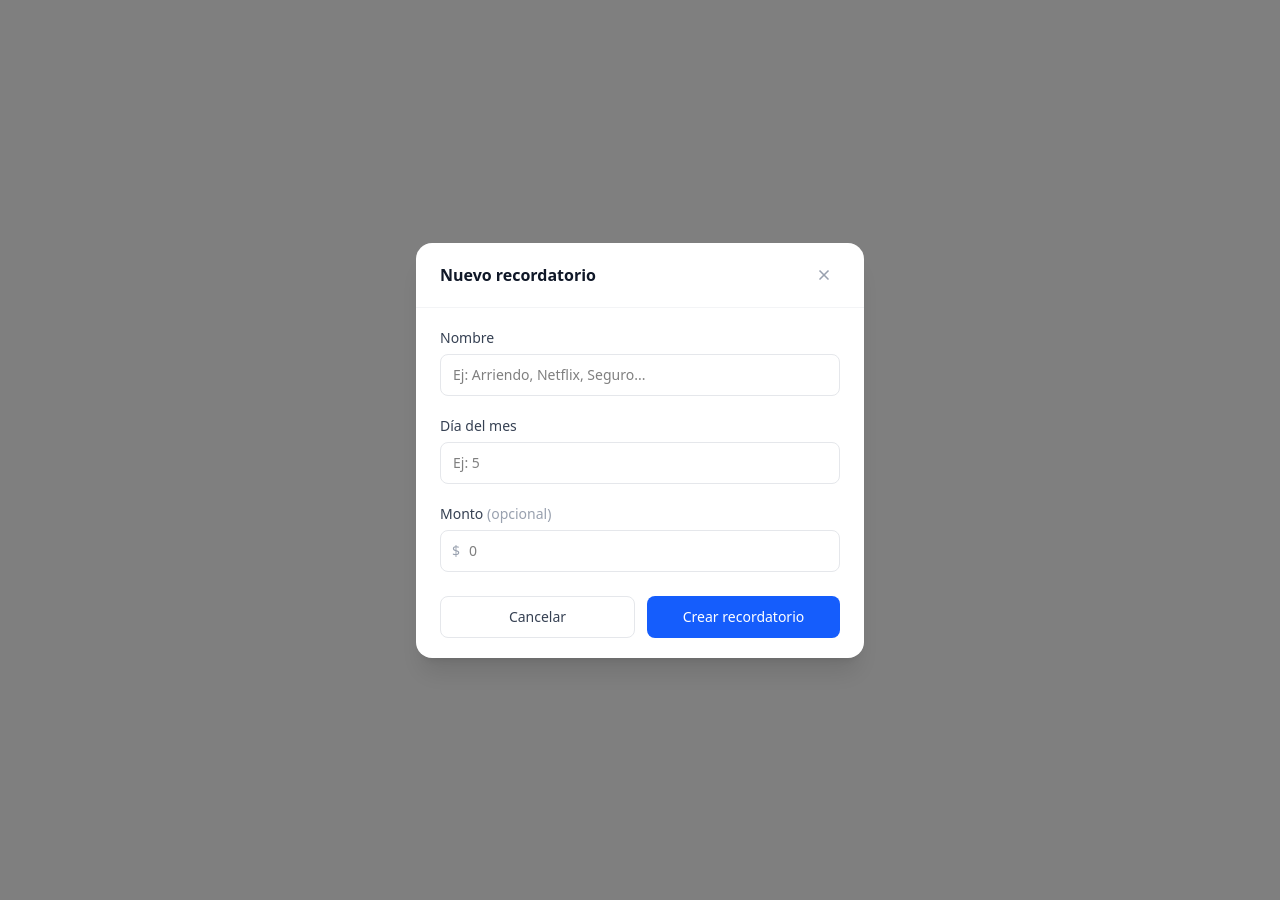
Scenario: RecordatorioModal — seguridad › muestra error si el día es inválido (0)
Type "Test" into the field labelled "Nombre".
click(640, 374); type("Test")  # box [440,354,840,396]
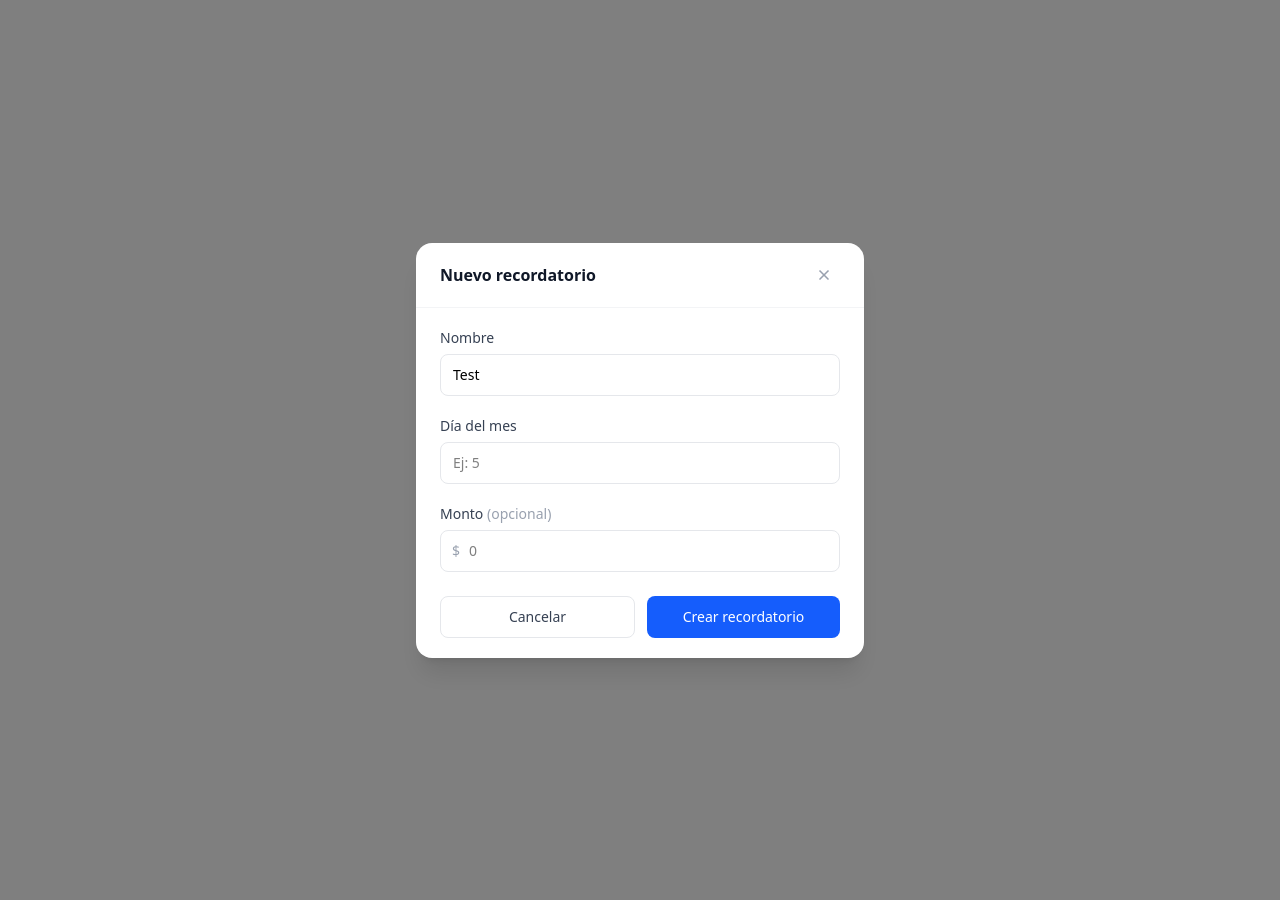
Type "0" into the number field labelled "Día del mes".
click(640, 462); type("0")  # box [440,442,840,484]
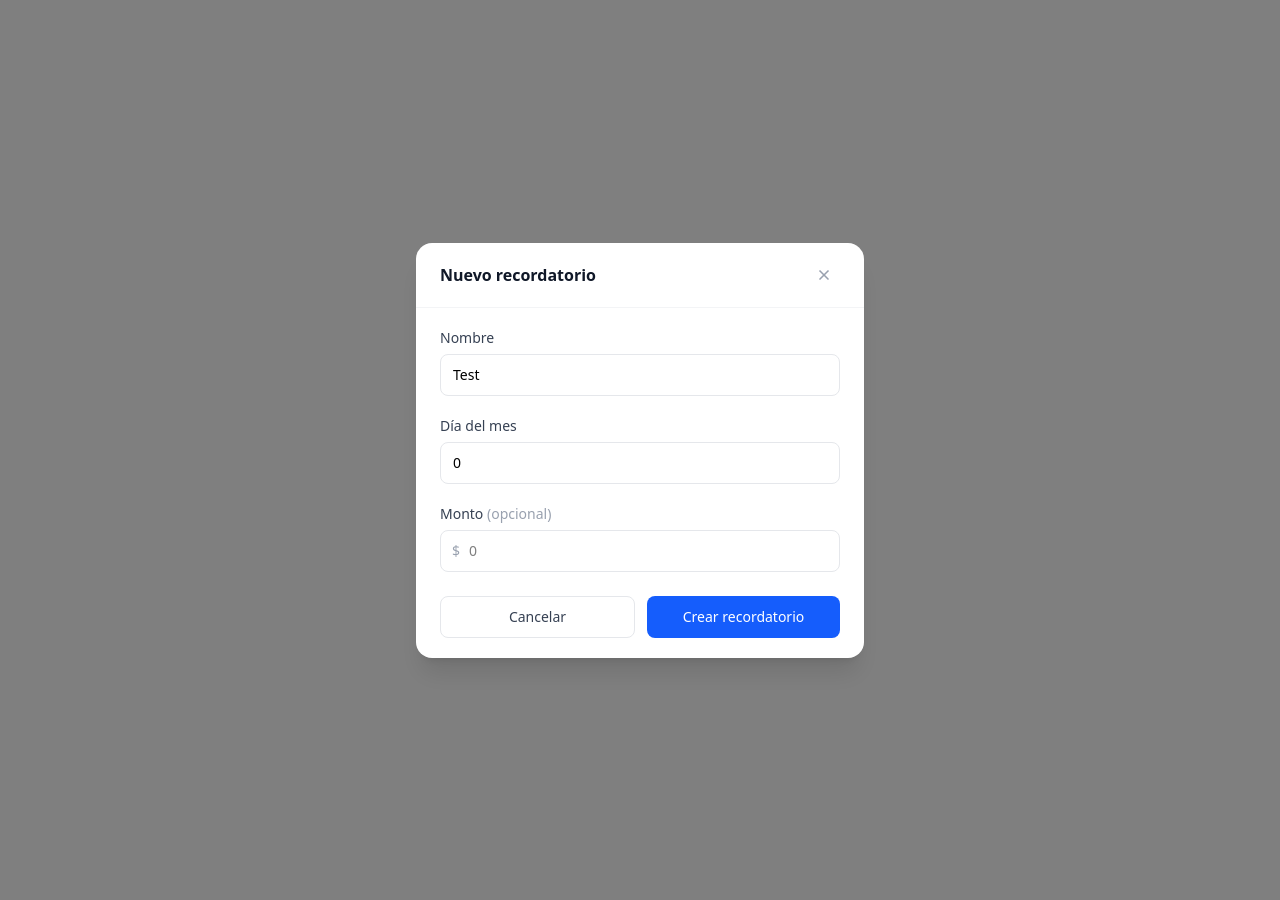
Submit the form labelled "Nombre", box [416,308,864,658]
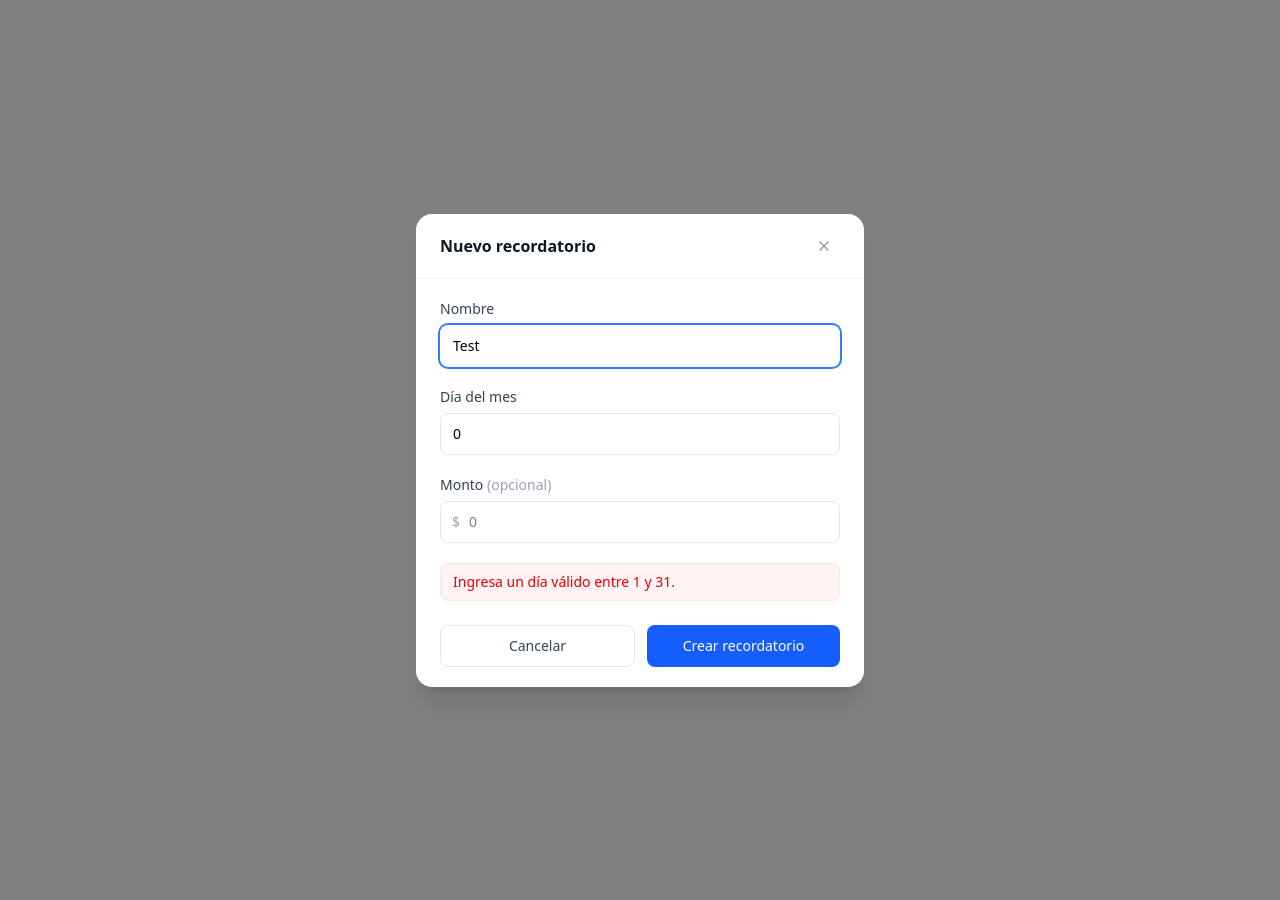
Check: the text "Ingresa un día válido entre 1 y 31." is shown, box [440,562,840,600]
